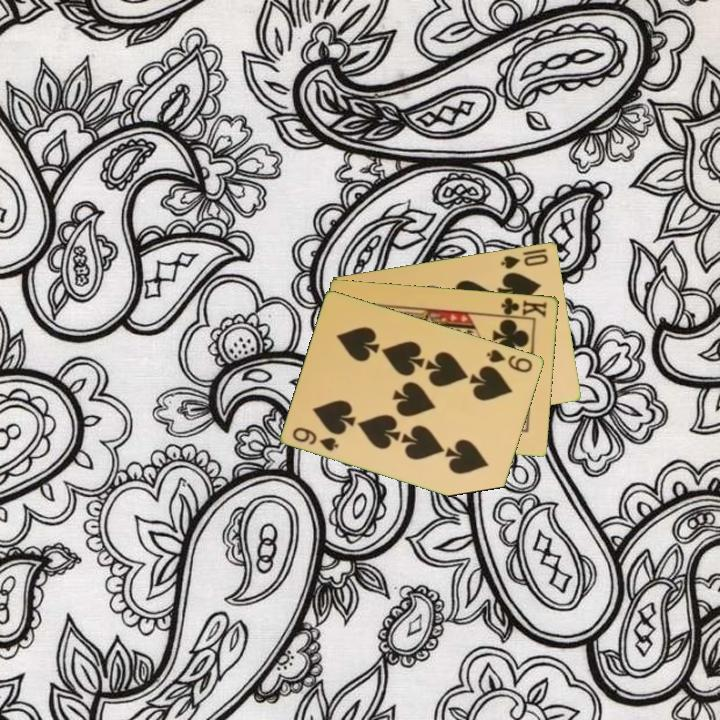10s: (497, 245, 551, 271)
9s: (289, 423, 342, 454), (483, 345, 536, 375)
Kc: (495, 294, 550, 320)
